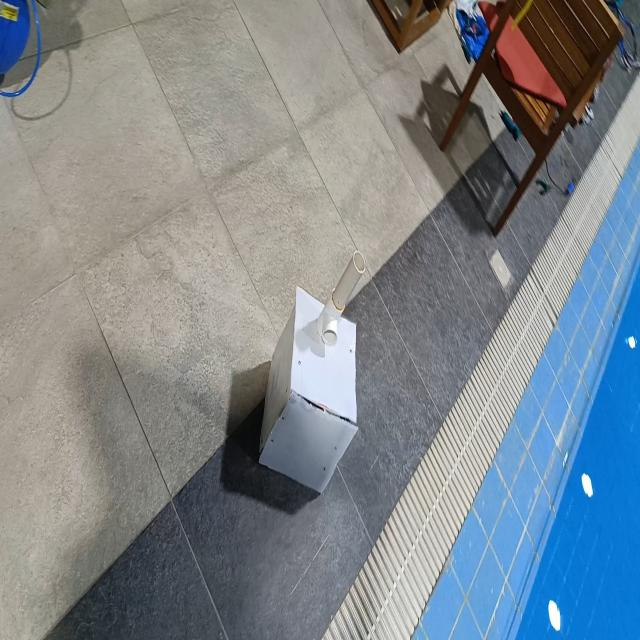Cube: (257, 283, 359, 494)
